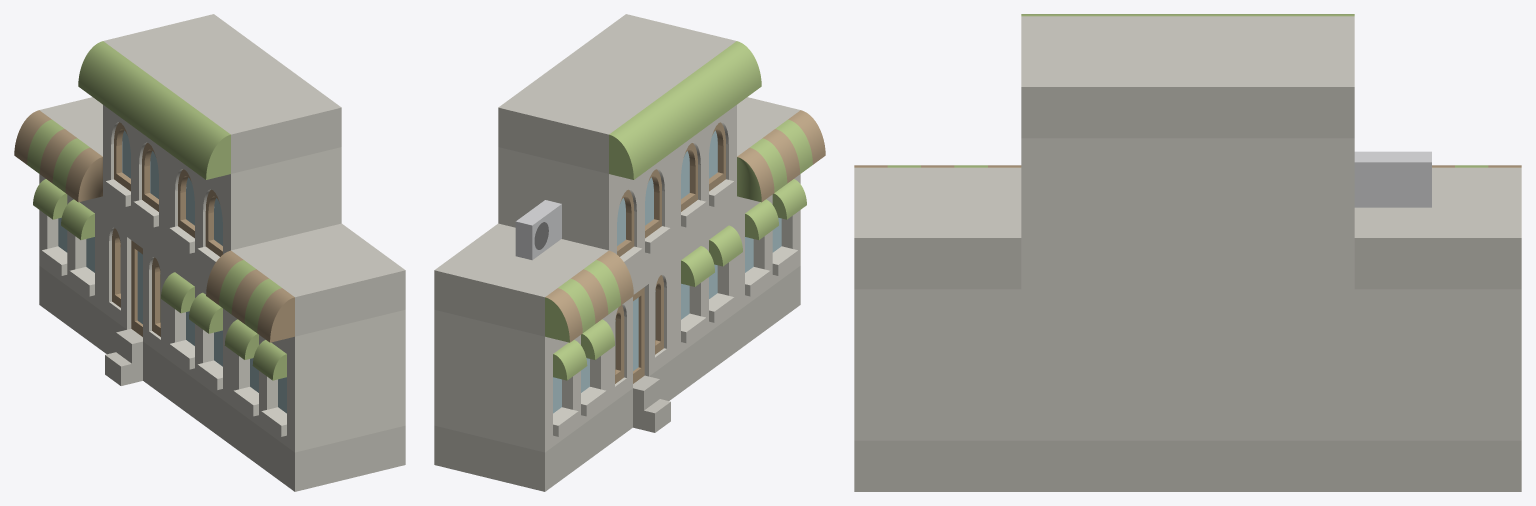
File: Building 4.fbx
The picture shows the model from 3 angles, left to right: view 1: azimuth 30°, elevation 25°; view 2: azimuth 150°, elevation 25°; view 3: azimuth 270°, elevation 25°; orthographic projection. The views are drawn at different scales.
Visible parts, largest first — view 1: Building 4; view 2: Building 4; view 3: Building 4.
Part boxes in pixels (x1,y1,x2,y2): Building 4: [14, 14, 405, 491]; Building 4: [434, 14, 825, 491]; Building 4: [854, 14, 1521, 491].
Size of the model in its own units: 122 by 268 by 400.
